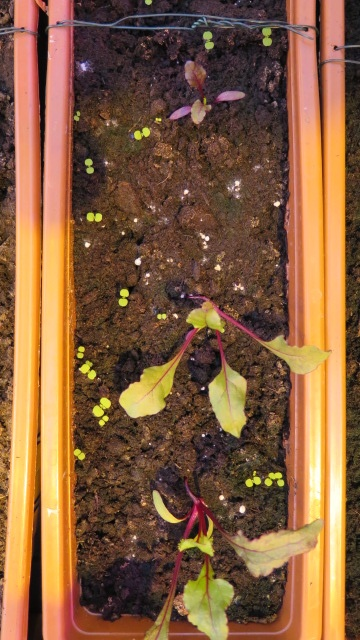crop: (118, 277, 328, 441), (141, 481, 318, 640), (166, 59, 248, 129)
weed: (131, 123, 151, 143), (90, 396, 109, 417), (82, 154, 95, 181), (83, 209, 104, 225), (244, 473, 262, 491), (79, 364, 98, 381), (117, 285, 130, 309), (261, 26, 274, 49), (202, 28, 214, 52), (71, 106, 83, 127), (72, 446, 86, 463), (75, 344, 85, 360), (155, 311, 169, 322), (98, 415, 108, 427), (266, 472, 281, 477)
